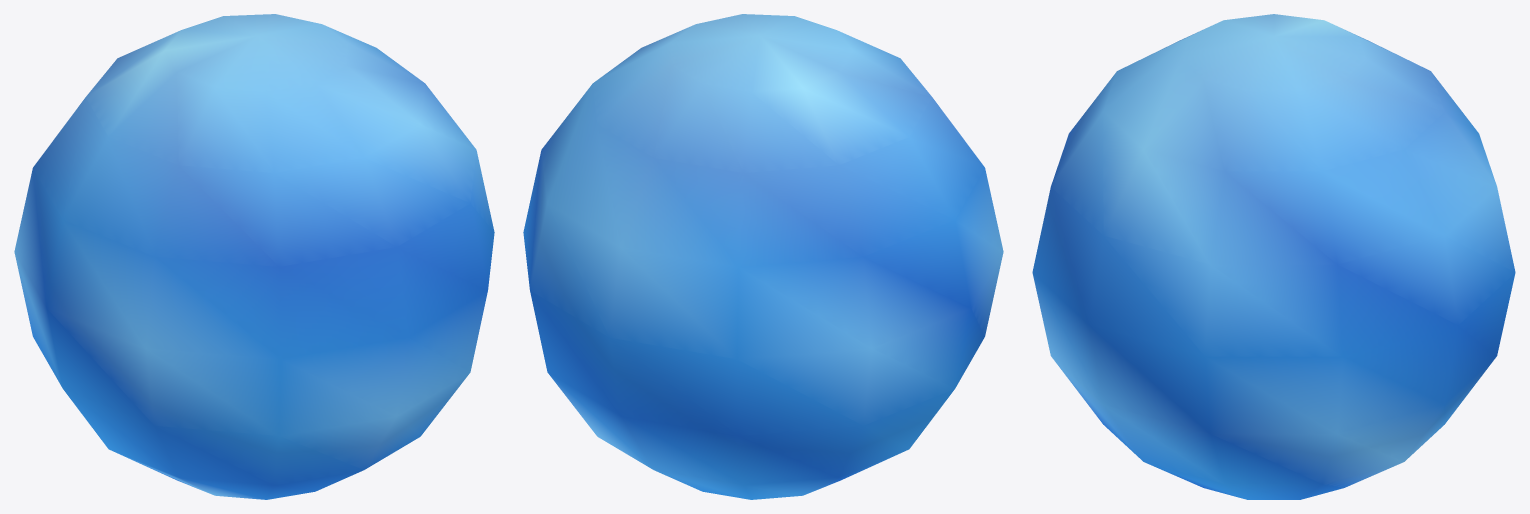
The model's file is arcane_bolt_roblox.glb.
3 renders of one model, left to right at view 1: azimuth 30°, elevation 25°; view 2: azimuth 150°, elevation 25°; view 3: azimuth 270°, elevation 25°, orthographic.
Parts seen in each view (by area): view 1: Bolt; view 2: Bolt; view 3: Bolt.
Boxes of the visible parts, x1,y1,x2,y2 form: Bolt: (14, 14, 494, 499); Bolt: (523, 14, 1003, 499); Bolt: (1032, 14, 1515, 499).
Size of the model in its own units: 0.098 by 0.1 by 0.099.
1 material, 1 textured.
